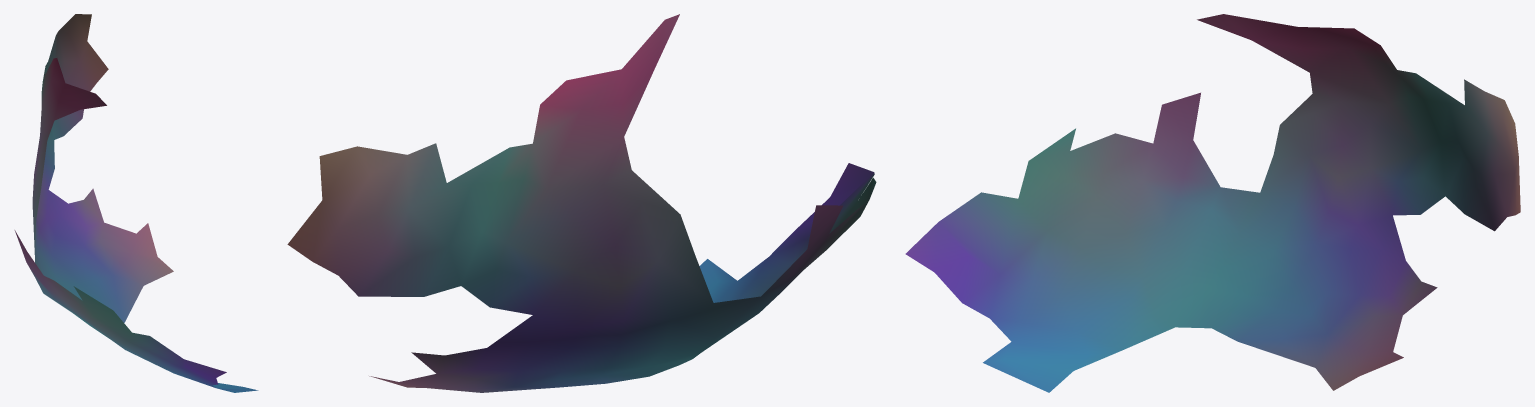
The model's file is space-nebulae-nebula_v50.glb.
The picture shows the model from 3 angles, left to right: view 1: azimuth 30°, elevation 25°; view 2: azimuth 150°, elevation 25°; view 3: azimuth 270°, elevation 25°; orthographic projection. The views are drawn at different scales.
Visible parts, largest first — view 1: Nebula_v50; view 2: Nebula_v50; view 3: Nebula_v50.
Boxes of the visible parts, x1=… form: Nebula_v50: x1=14, y1=14, x2=258, y2=392; Nebula_v50: x1=287, y1=14, x2=876, y2=392; Nebula_v50: x1=905, y1=14, x2=1520, y2=392.
Bounding box in the file's own units: 0.2648 × 0.2963 × 0.5.
